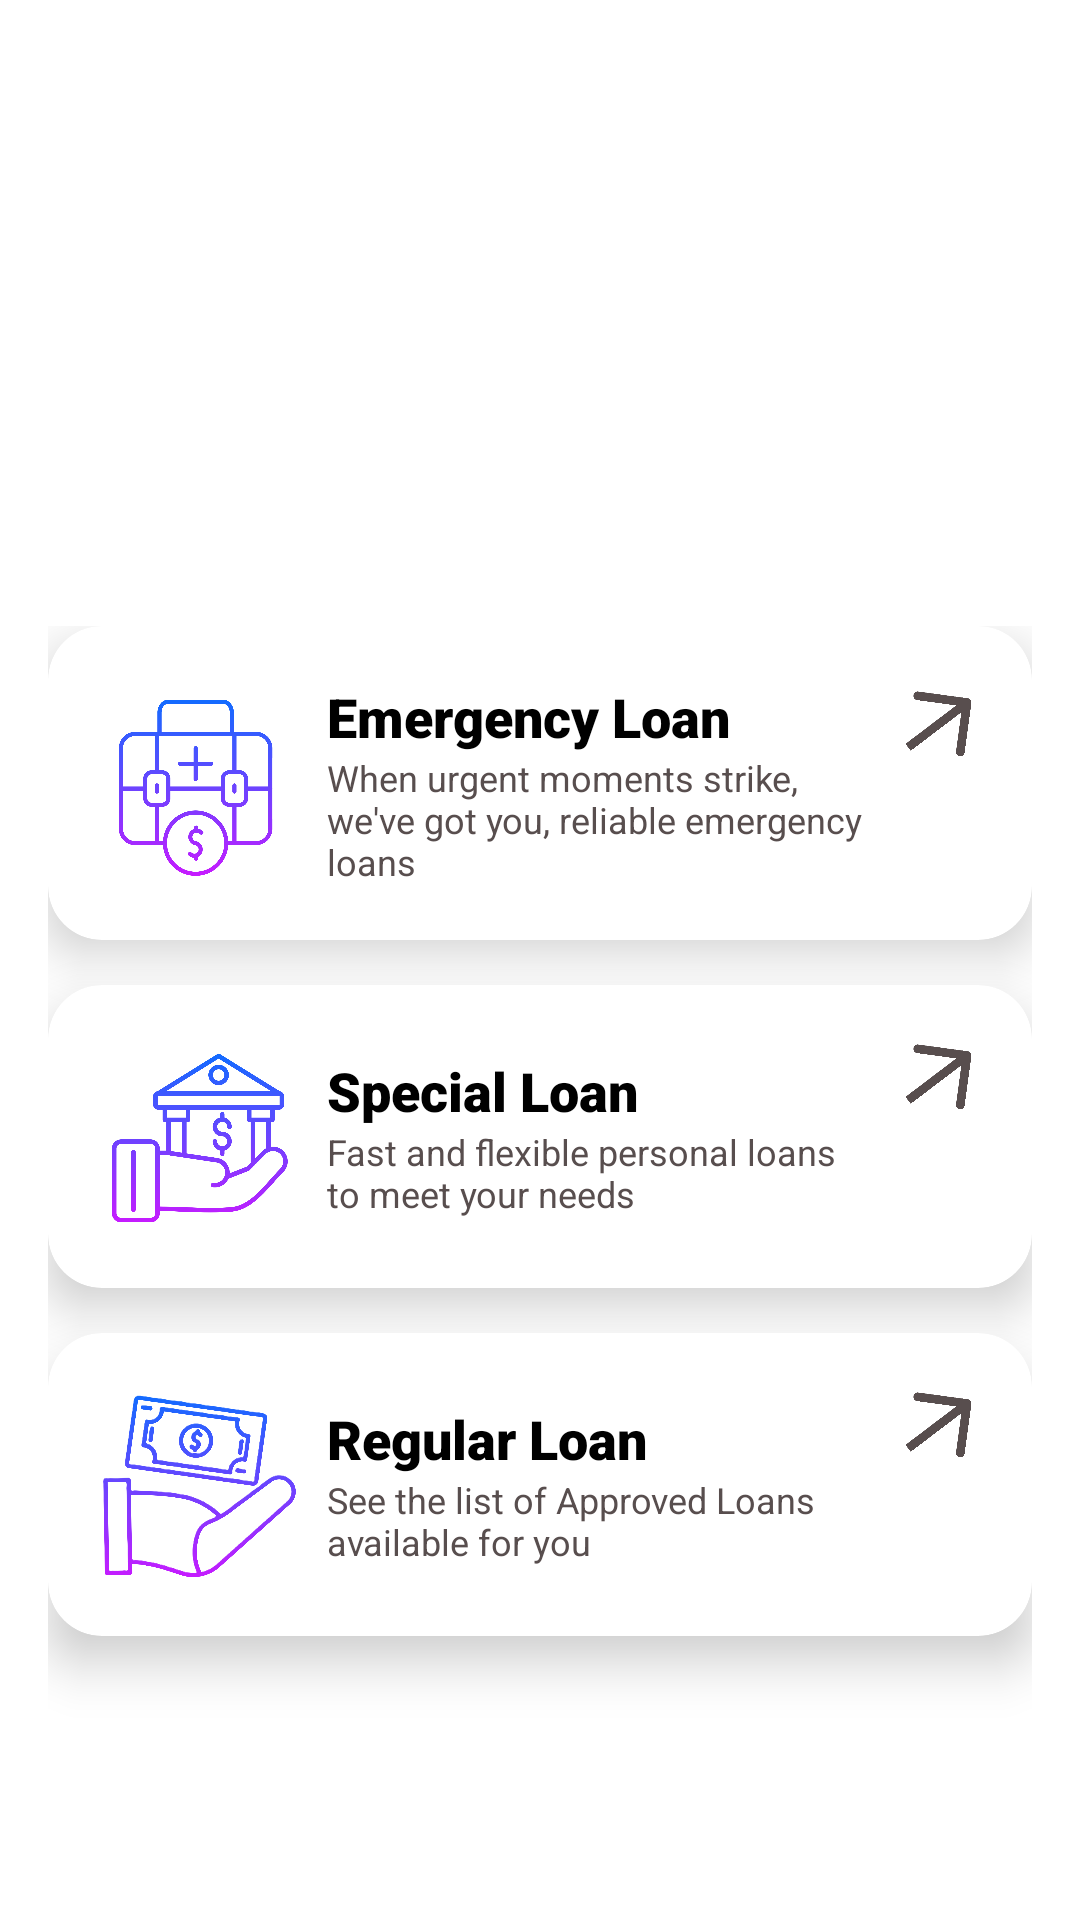

Icons on this 1080 × 1920 Android screen, each with the point to tap as (x,y):
emergencyicon: (196,788)
loanarrow: (938,723), (938,1076), (938,1424)
loanhand: (199,1486)
specialicon: (200,1138)
